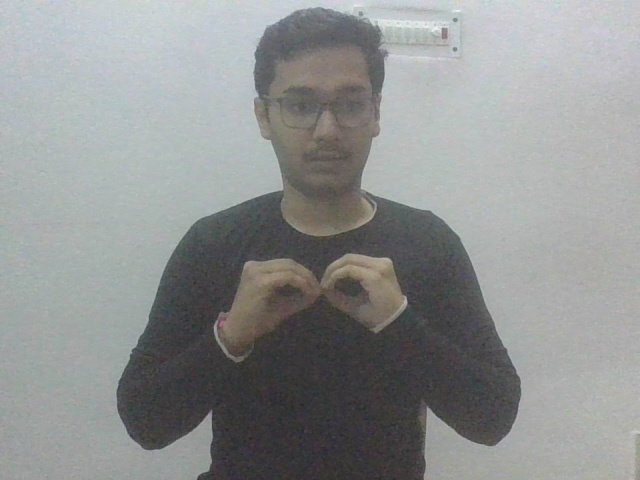B: (205, 252, 414, 348)
